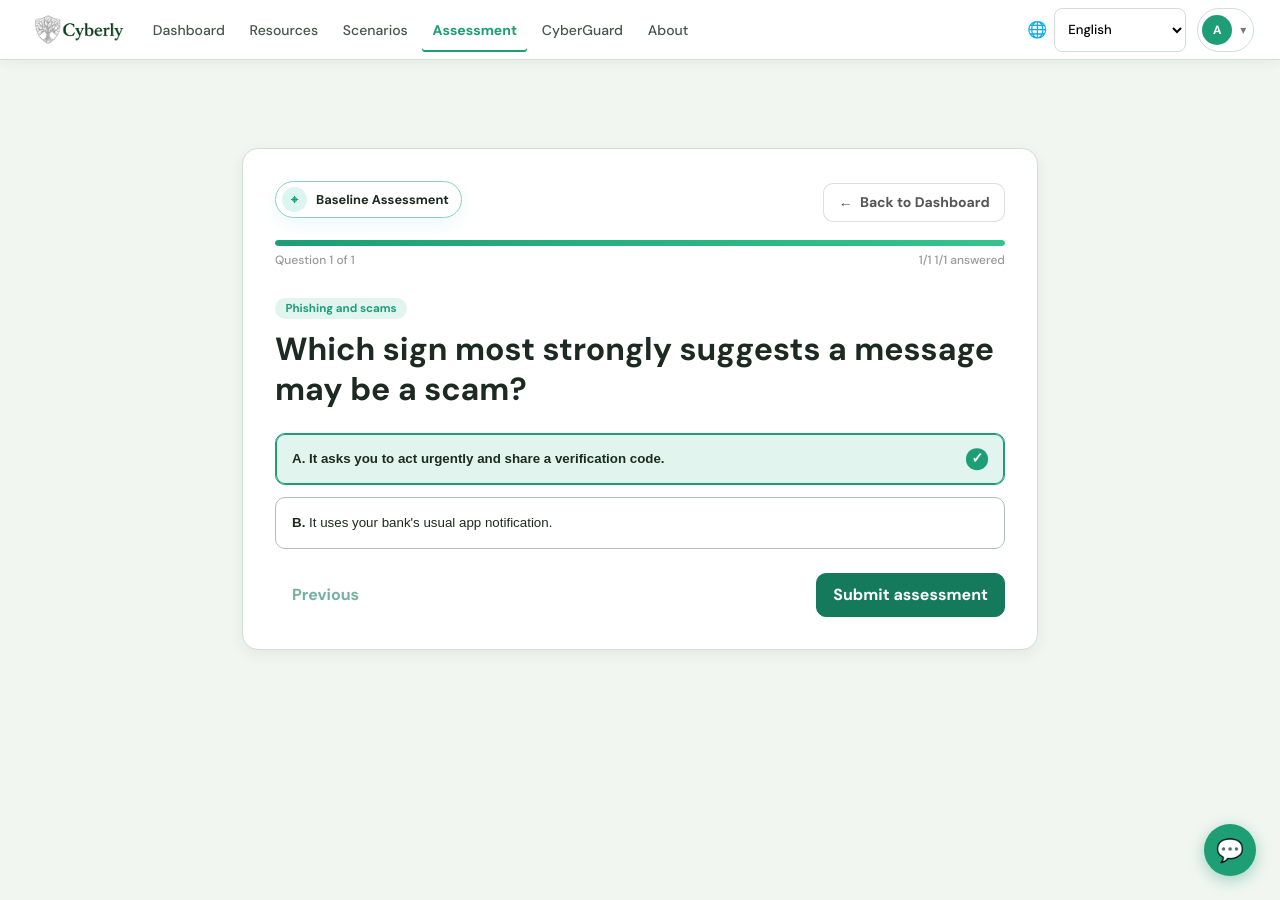
Assessment final visual migration › active Assessment submit errors retain the valid attempt instead of ordinary-load recovery
The width and height of the screenshot is (1280, 900).
Expected: the heading "Which sign most strongly suggests a message may be a scam?" is shown, [275, 329, 1005, 409]
Click the button "Submit assessment". click: click(911, 595)
box: [816, 573, 1005, 617]
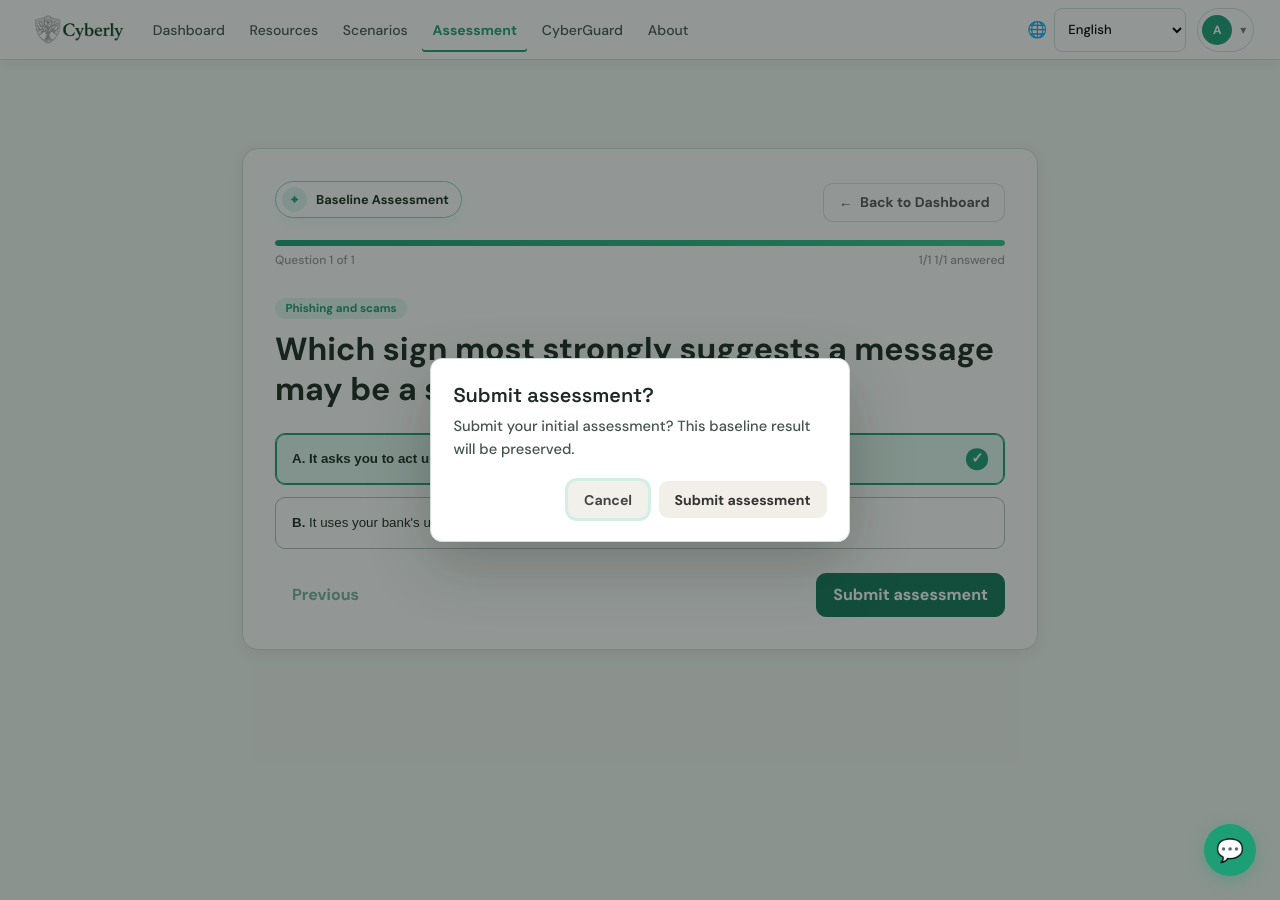
Click the button "Submit assessment". click: click(743, 500)
box: [658, 481, 827, 518]
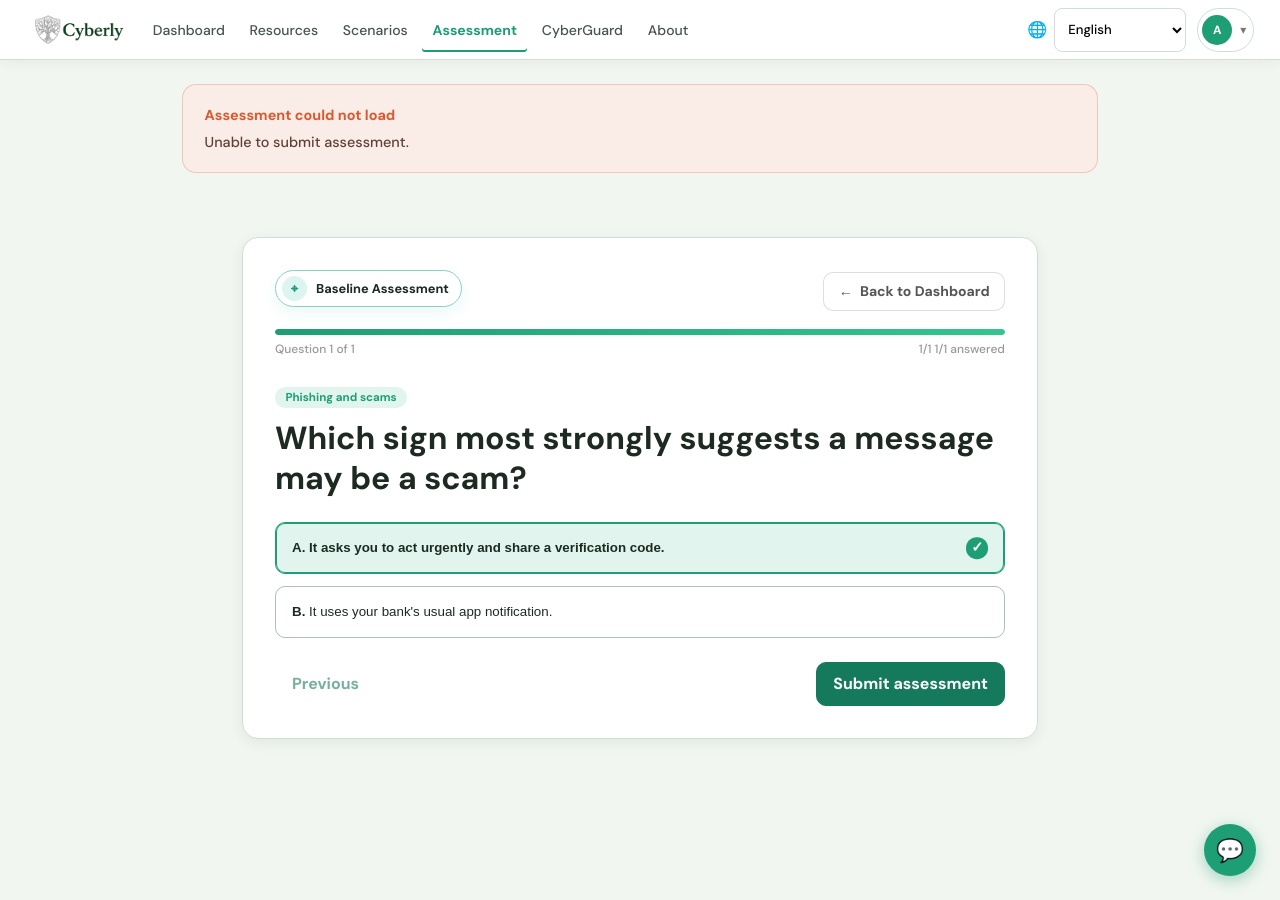
Expected: the heading "Which sign most strongly suggests a message may be a scam?" is shown, [275, 418, 1005, 498]
Now the message "Assessment could not load Unable to submit assessment." is shown, box [182, 84, 1098, 173]
